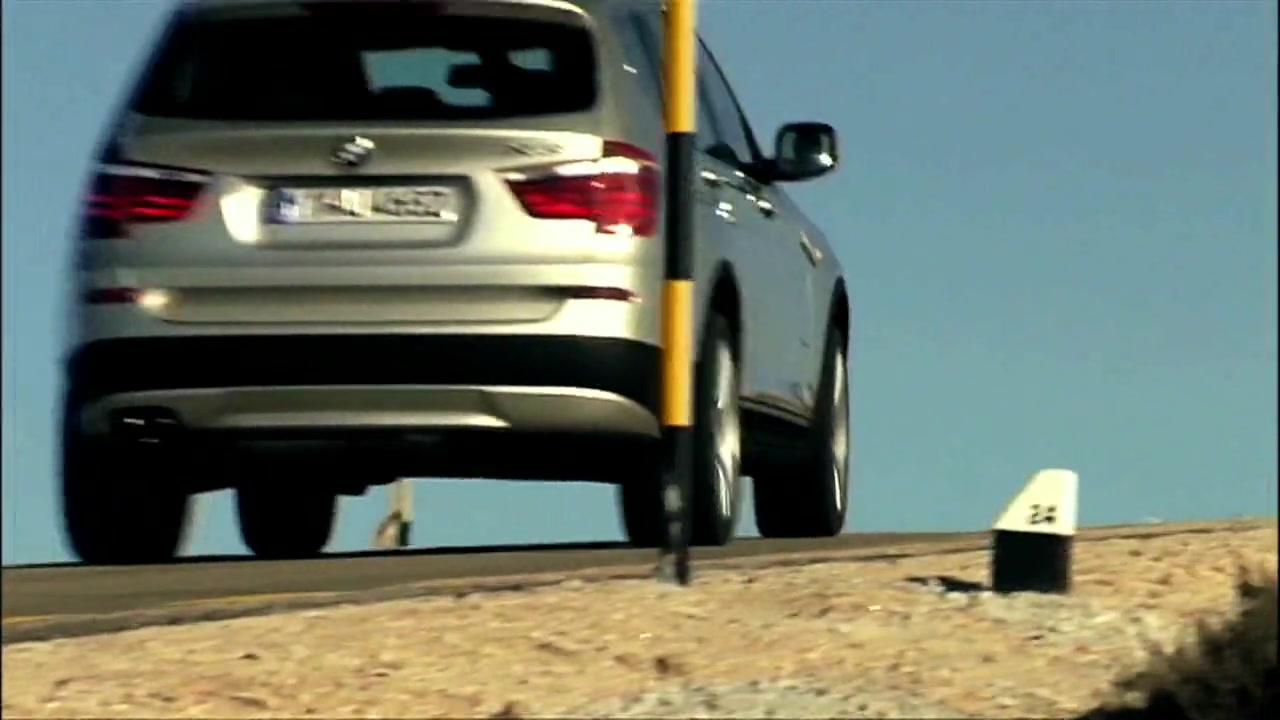car: (61, 1, 858, 565)
